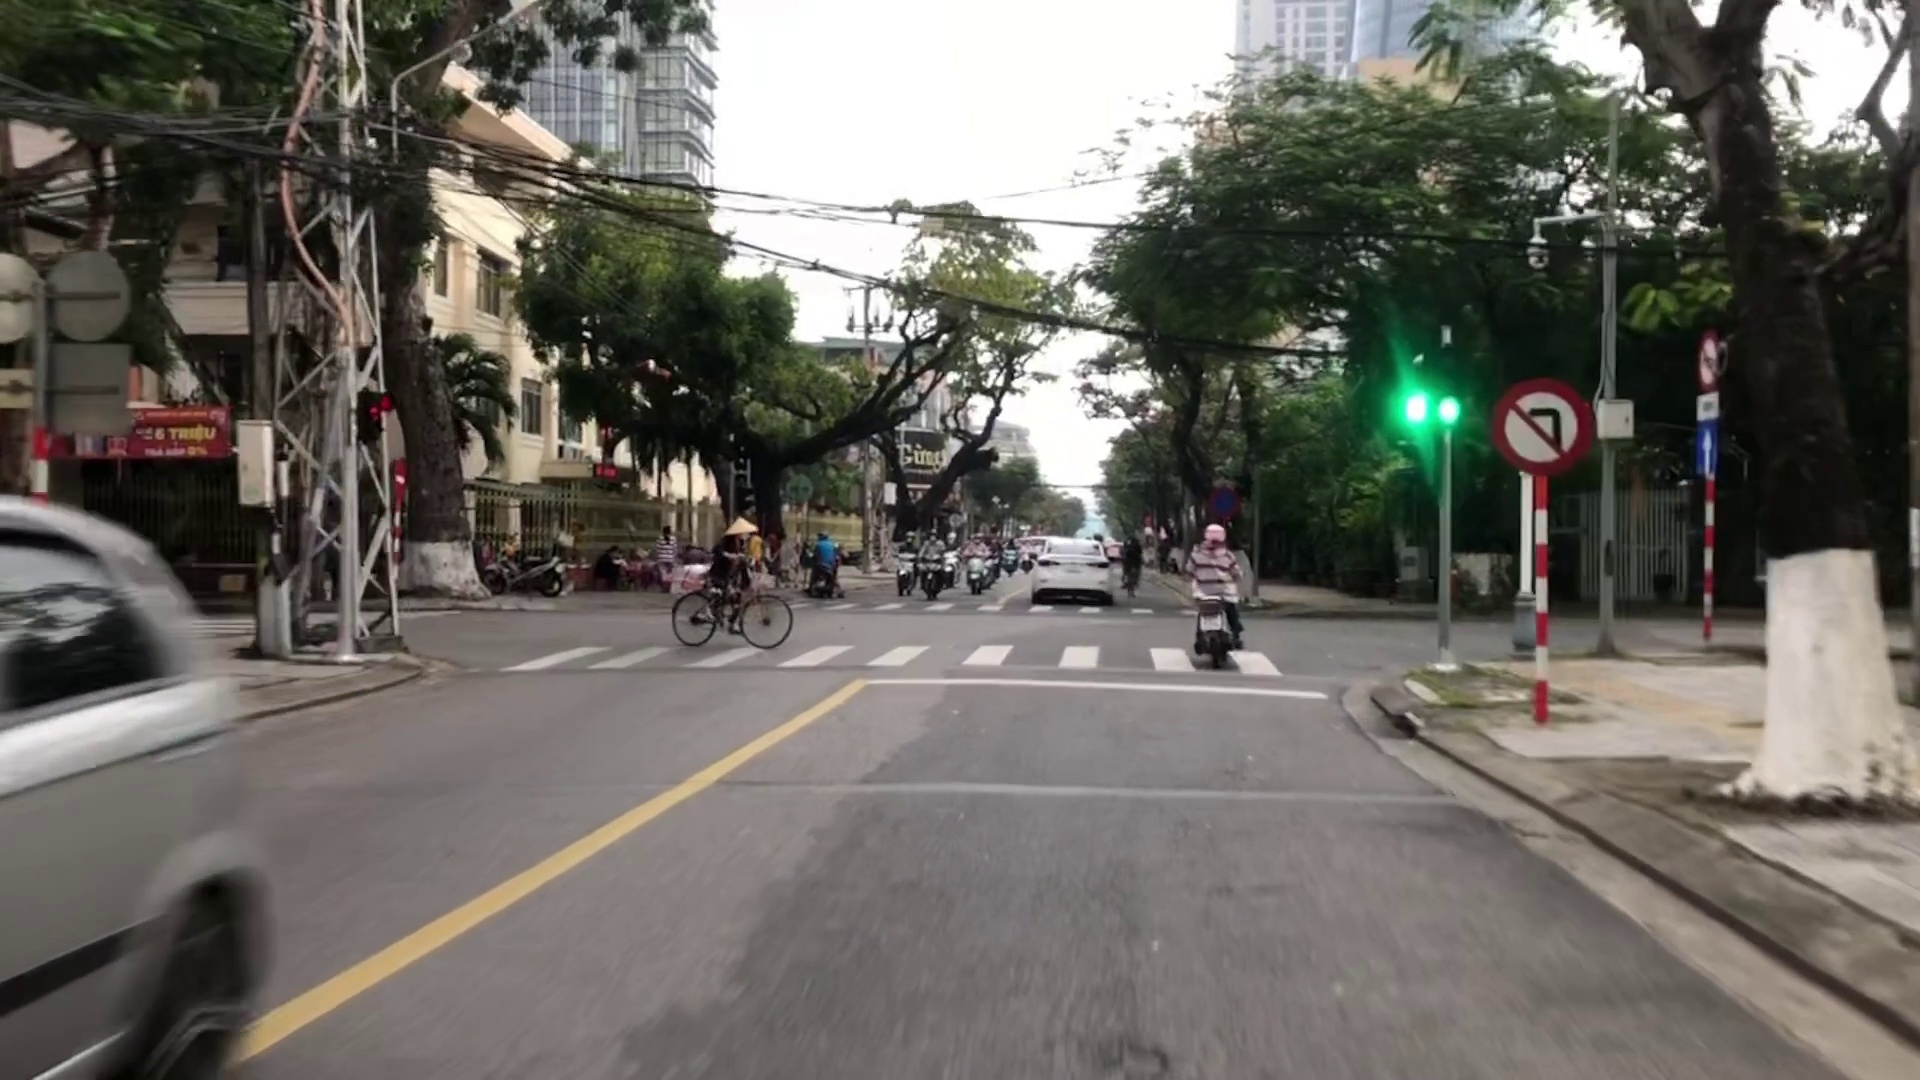Bien khac: (1487, 375, 1584, 471)
